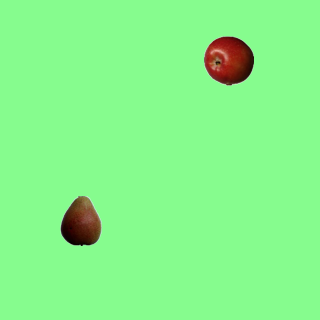Apple Braeburn: (203, 35, 253, 85)
Pear Forelle: (55, 195, 105, 245)
